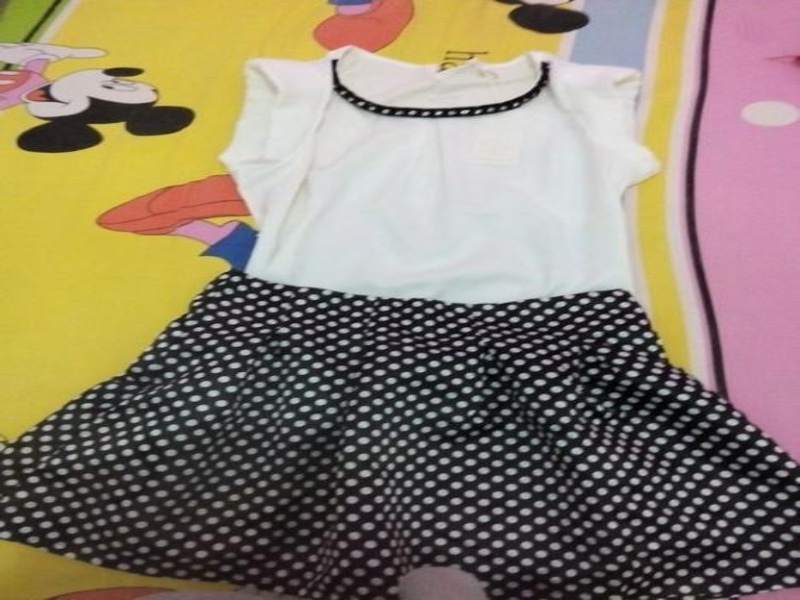skirt: (0, 267, 795, 598)
vest: (209, 42, 667, 325)
